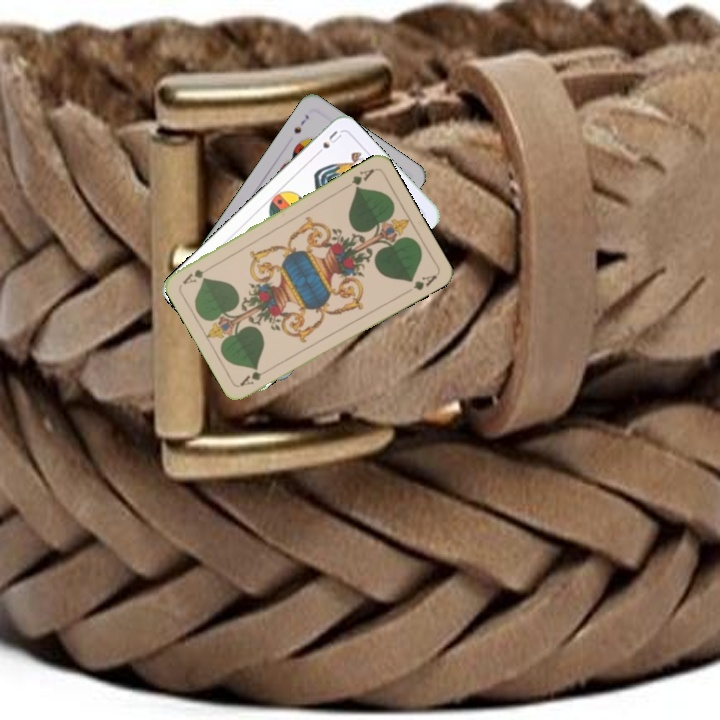GA: (236, 363, 274, 389), (341, 165, 377, 192)
S7: (290, 111, 312, 136)
SU: (311, 126, 344, 159)
